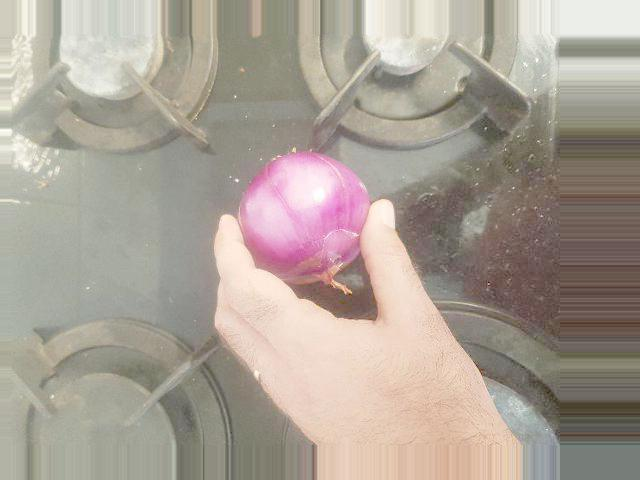onion: (241, 162, 366, 272)
